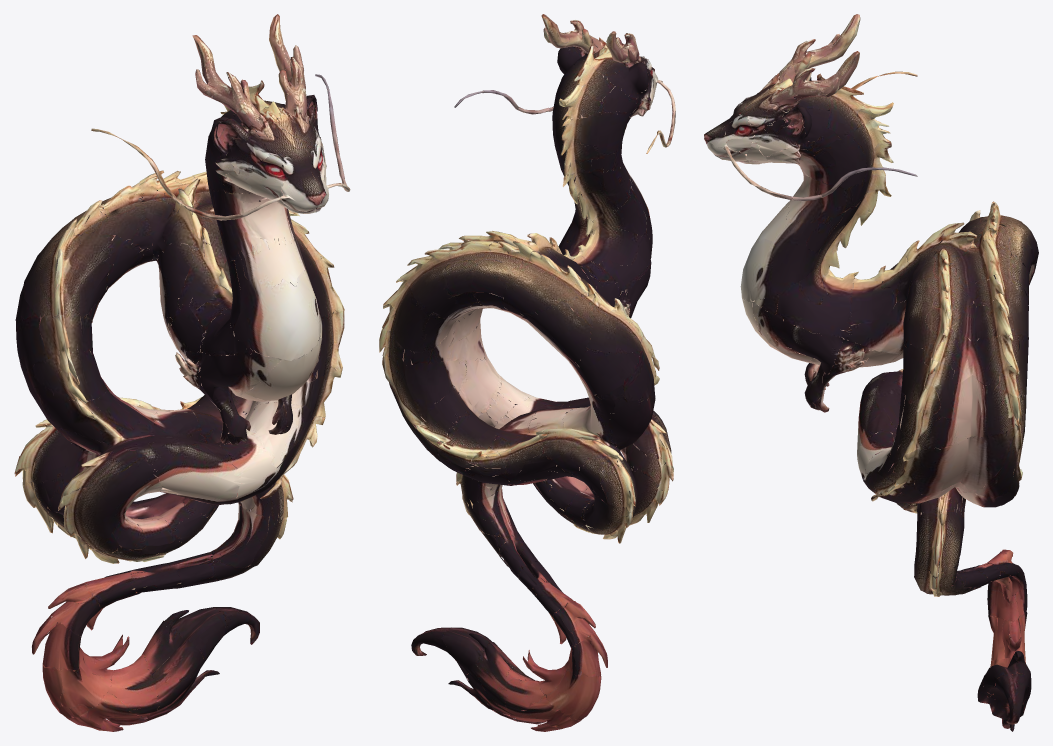
3 views of the same model, side by side, from view 1: azimuth 30°, elevation 25°; view 2: azimuth 150°, elevation 25°; view 3: azimuth 270°, elevation 25° (orthographic). The views are drawn at different scales.
Parts seen in each view (by area): view 1: Mesh_0; view 2: Mesh_0; view 3: Mesh_0.
Part boxes in pixels (x1=…): Mesh_0: x1=14, y1=14, x2=350, y2=731; Mesh_0: x1=379, y1=14, x2=675, y2=731; Mesh_0: x1=704, y1=14, x2=1038, y2=731.
Bounding box in the file's own units: 0.7699 × 1.9 × 0.8303.
Materials: 1 (1 with a texture image).
